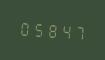eight: (44, 19, 56, 40)
five: (31, 18, 43, 39)
four: (57, 20, 69, 41)
seven: (70, 21, 82, 42)
zero: (18, 17, 30, 38)
